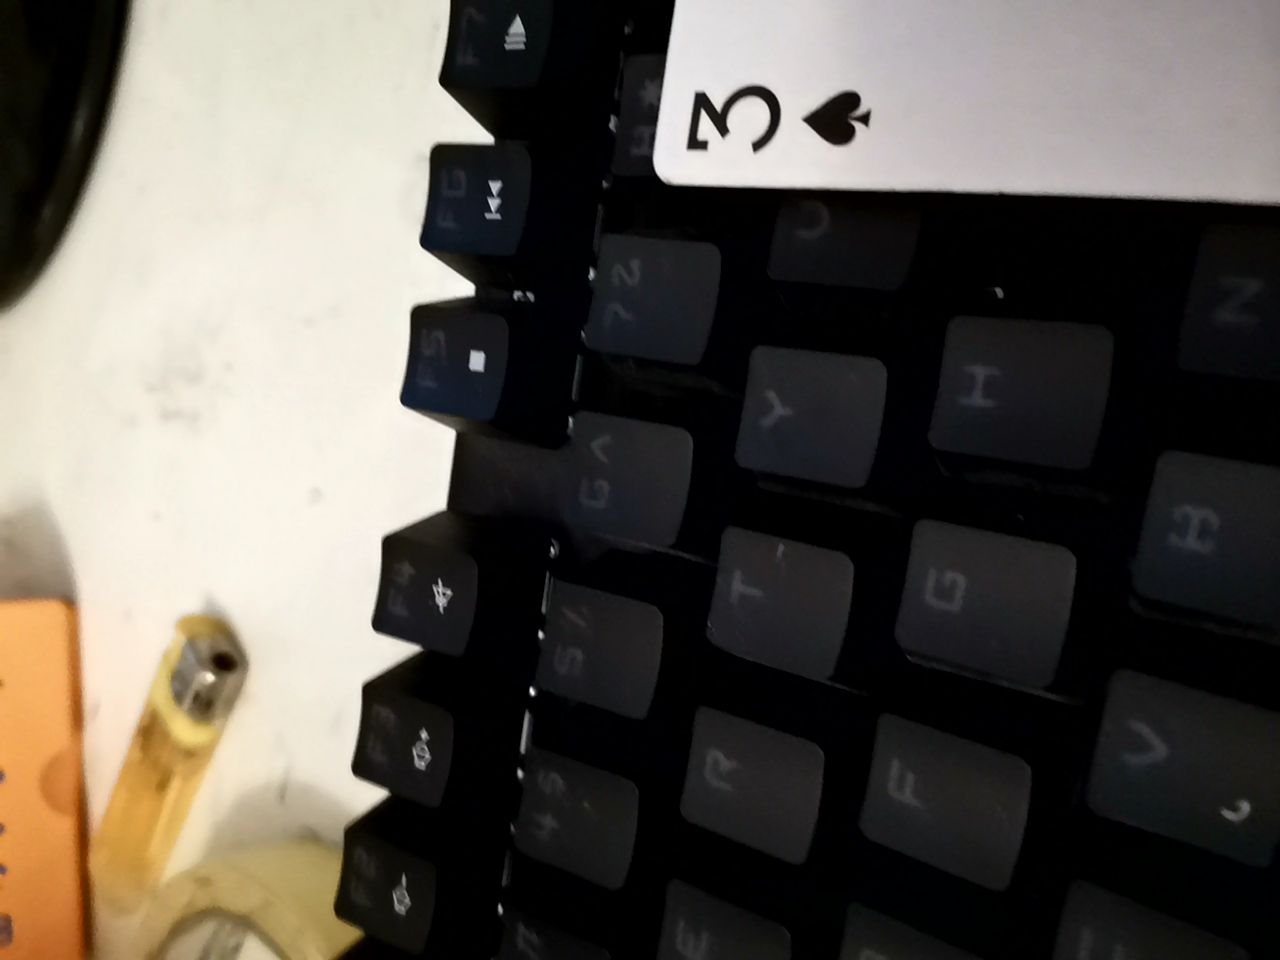ht 3: (631, 0, 1280, 223)
